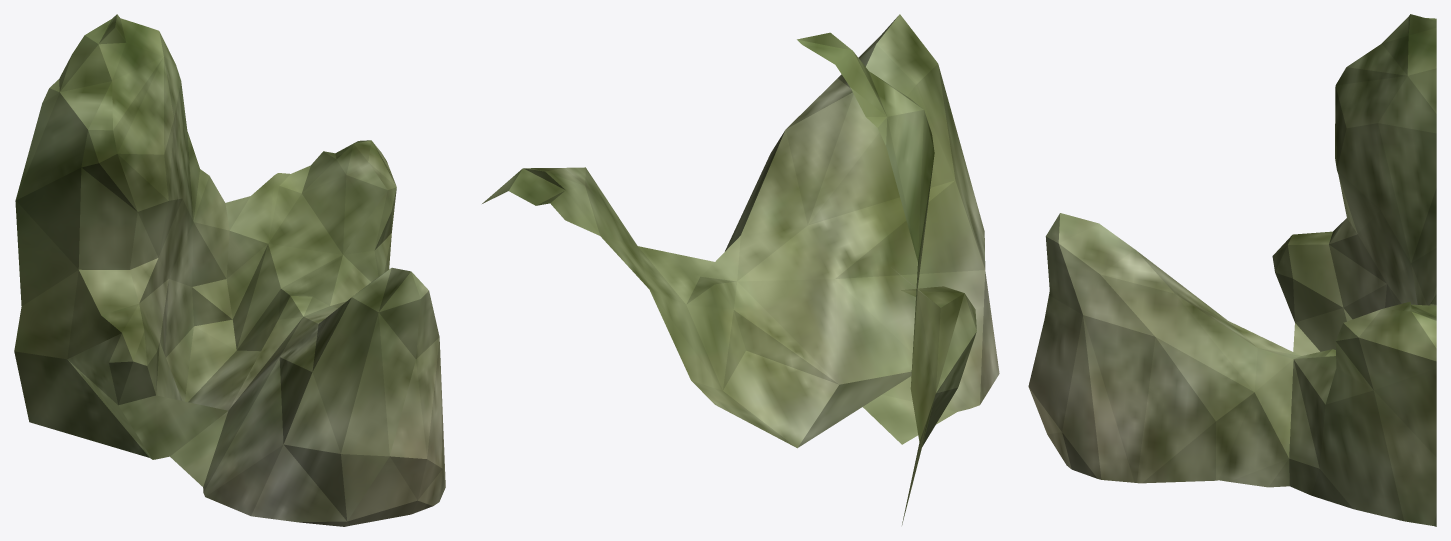
The picture shows the model from 3 angles, left to right: view 1: azimuth 30°, elevation 25°; view 2: azimuth 150°, elevation 25°; view 3: azimuth 270°, elevation 25°; orthographic projection. The views are drawn at different scales.
Size of the model in its own units: 0.8448 by 0.8378 by 0.811.
1 material, 1 textured.
